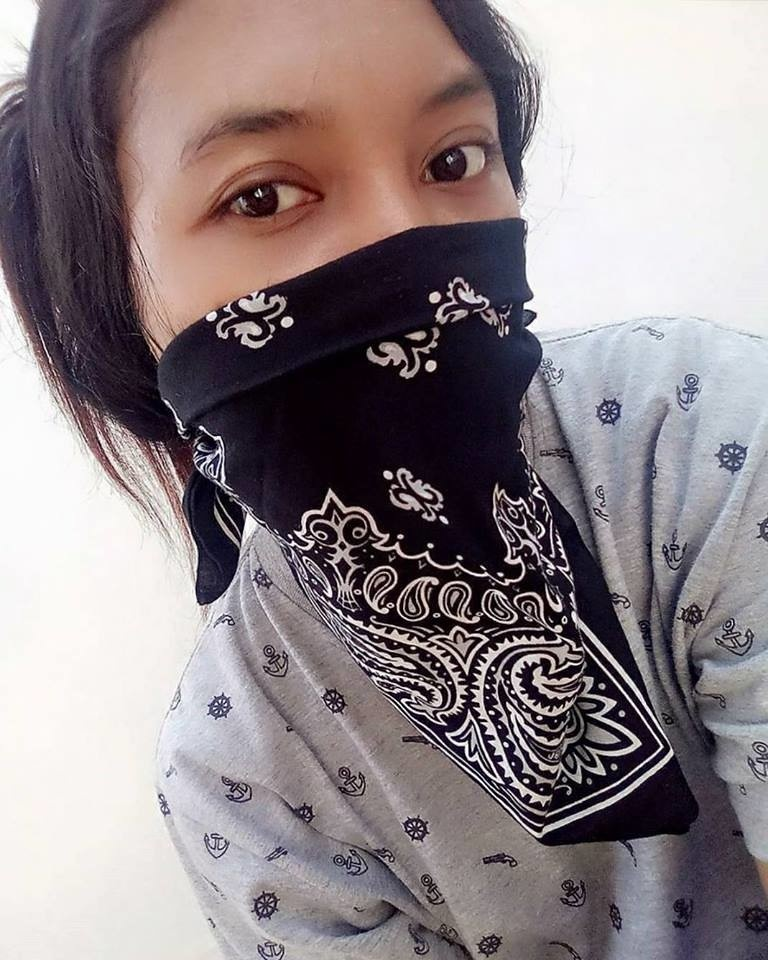face_with_mask: (58, 1, 546, 553)
